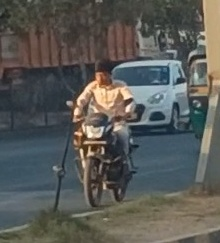BikeWithRider: (59, 55, 148, 210)
NoHelmet: (89, 55, 117, 87)
